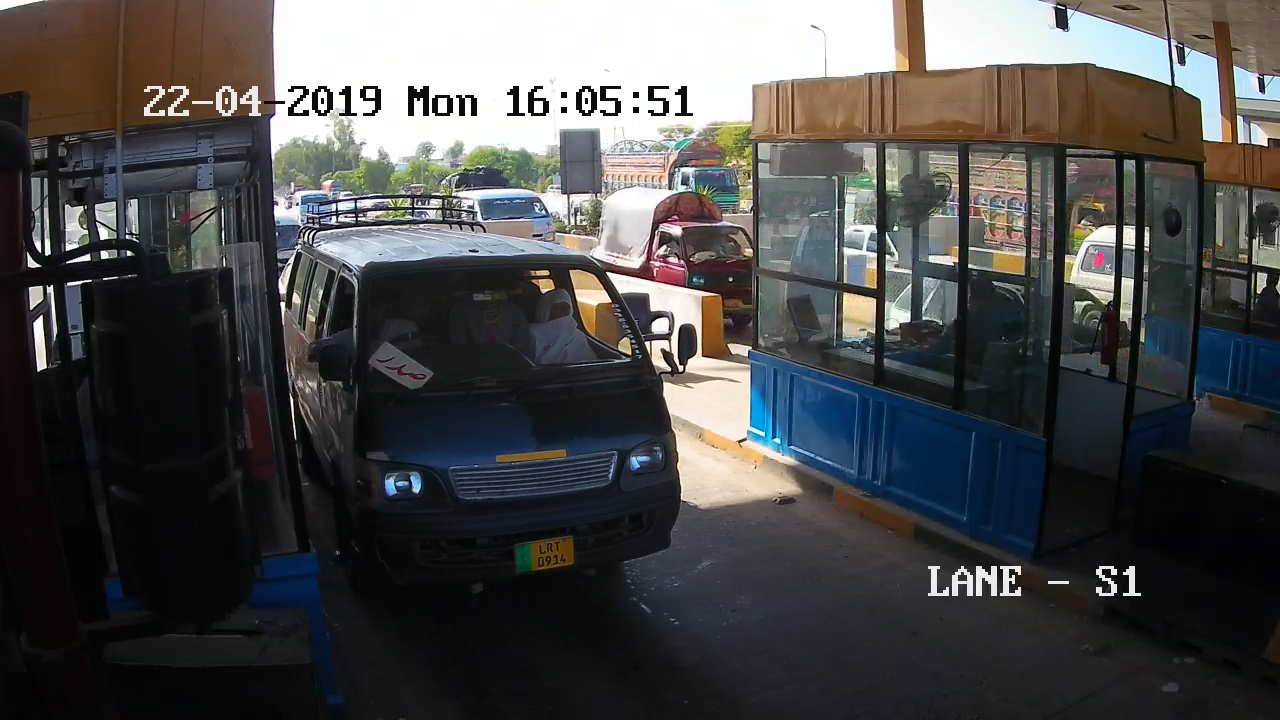Number Plate (Car): (515, 537, 576, 571)
